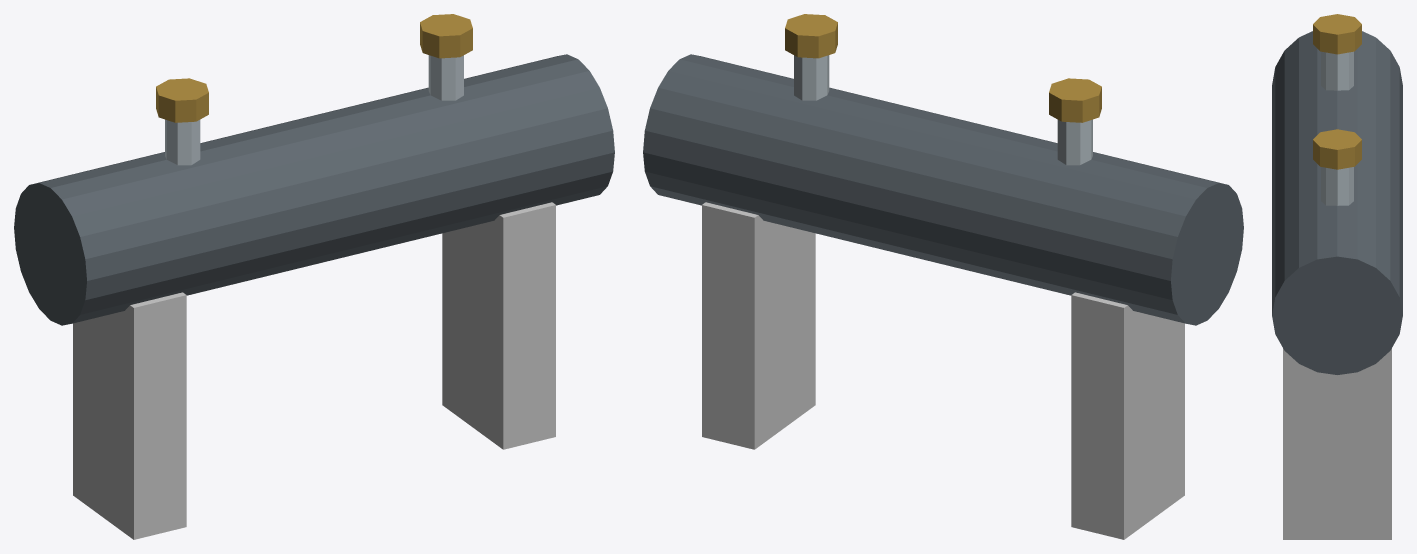
Rendered from cell_7.obj.
3 renders of one model, left to right at view 1: azimuth 30°, elevation 25°; view 2: azimuth 150°, elevation 25°; view 3: azimuth 270°, elevation 25°, orthographic. The views are drawn at different scales.
Bounding box in the file's own units: 1 × 0.74 × 0.24.
